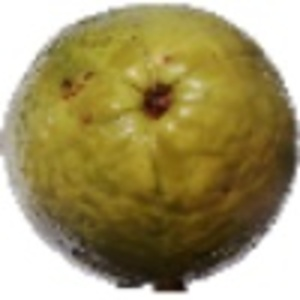goiaba: (3, 5, 295, 287)
